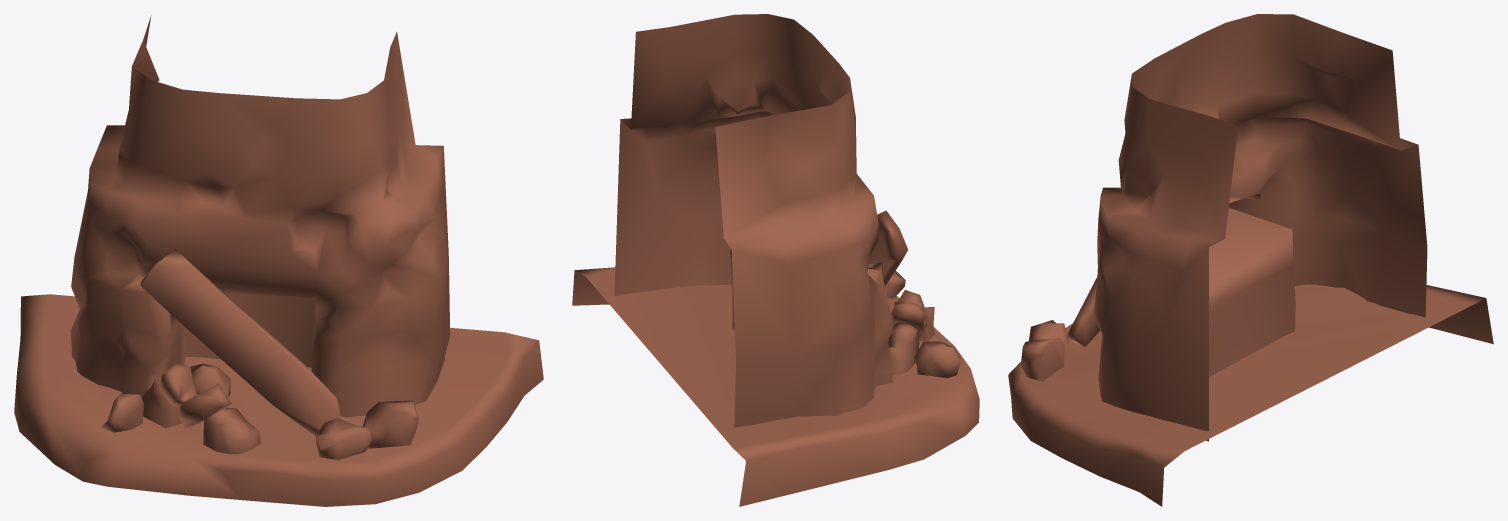
Rendered from kamin_draft_Lv0.fbx.
The picture shows the model from 3 angles, left to right: view 1: azimuth 30°, elevation 25°; view 2: azimuth 150°, elevation 25°; view 3: azimuth 270°, elevation 25°; orthographic projection. The views are drawn at different scales.
Parts seen in each view (by area): view 1: kamin_cruched_low; view 2: kamin_cruched_low; view 3: kamin_cruched_low.
Boxes of the visible parts, bbox=[...] form: kamin_cruched_low: bbox=[14, 15, 543, 506]; kamin_cruched_low: bbox=[572, 14, 979, 506]; kamin_cruched_low: bbox=[1008, 14, 1493, 506].
Size of the model in its own units: 256 by 192 by 249.
